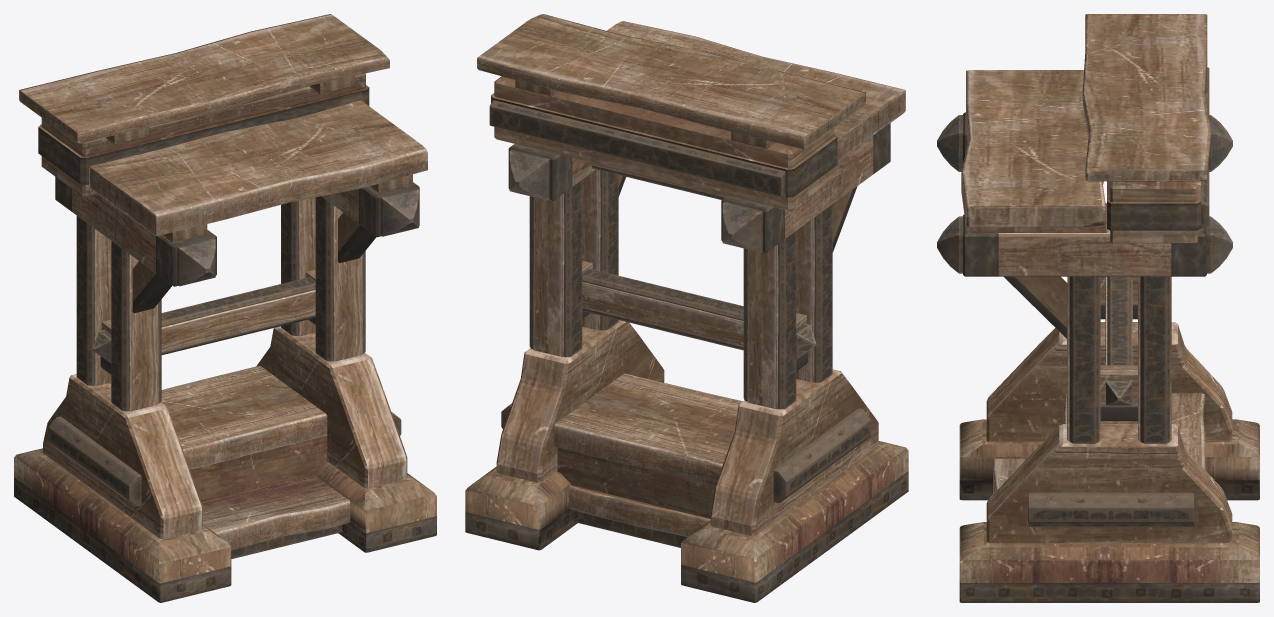
3 renders of one model, left to right at view 1: azimuth 30°, elevation 25°; view 2: azimuth 150°, elevation 25°; view 3: azimuth 270°, elevation 25°, orthographic. The views are drawn at different scales.
Parts seen in each view (by area): view 1: SM_Dowdun_Lectern_A_01_LOD0; view 2: SM_Dowdun_Lectern_A_01_LOD0; view 3: SM_Dowdun_Lectern_A_01_LOD0.
Boxes of the visible parts, x1,y1,x2,y2 form: SM_Dowdun_Lectern_A_01_LOD0: (14, 14, 436, 602); SM_Dowdun_Lectern_A_01_LOD0: (465, 14, 908, 602); SM_Dowdun_Lectern_A_01_LOD0: (937, 14, 1259, 602).
Bounding box in the file's own units: 1.06 × 1.39 × 0.9241.
3 materials, 3 textured.
